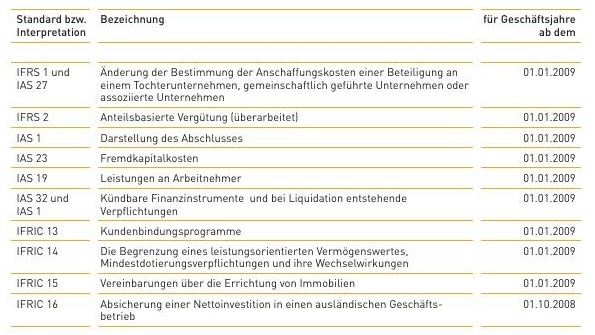table: (0, 0, 595, 335)
